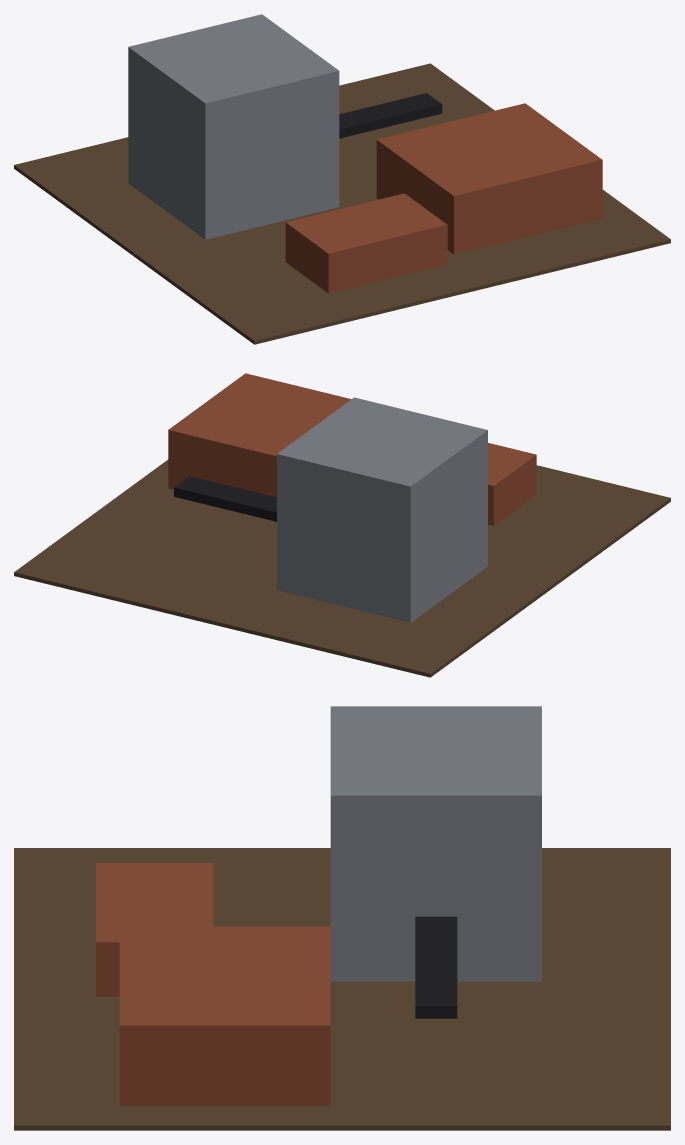
The model's file is iron_ore_mine.glb.
3 views of the same model, one above another, from view 1: azimuth 30°, elevation 25°; view 2: azimuth 150°, elevation 25°; view 3: azimuth 270°, elevation 25° (orthographic). The views are drawn at different scales.
Parts seen in each view (by area): view 1: Pad, Crusher, OrePile, OrePile2, Conveyor; view 2: Pad, Crusher, OrePile, OrePile2, Conveyor; view 3: Pad, Crusher, OrePile, OrePile2, Conveyor.
Part boxes in pixels (bbox=[...]): Pad: bbox=[14, 63, 670, 344]; Crusher: bbox=[128, 14, 339, 239]; OrePile: bbox=[376, 103, 602, 254]; OrePile2: bbox=[285, 193, 447, 293]; Conveyor: bbox=[339, 93, 442, 138]; Pad: bbox=[14, 459, 670, 677]; Crusher: bbox=[277, 397, 487, 622]; OrePile: bbox=[168, 373, 351, 497]; OrePile2: bbox=[488, 443, 536, 525]; Conveyor: bbox=[174, 476, 276, 521]; Pad: bbox=[14, 848, 670, 1130]; Crusher: bbox=[330, 706, 541, 981]; OrePile: bbox=[119, 926, 330, 1105]; OrePile2: bbox=[96, 863, 213, 996]; Conveyor: bbox=[415, 916, 457, 1018].
Bounding box in the file's own units: 2.8 × 0.9 × 2.8.
